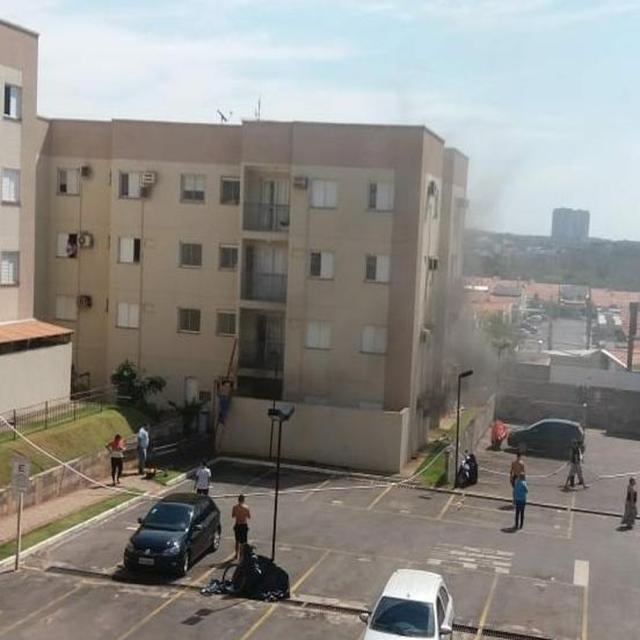Smoke: (432, 112, 499, 452)
